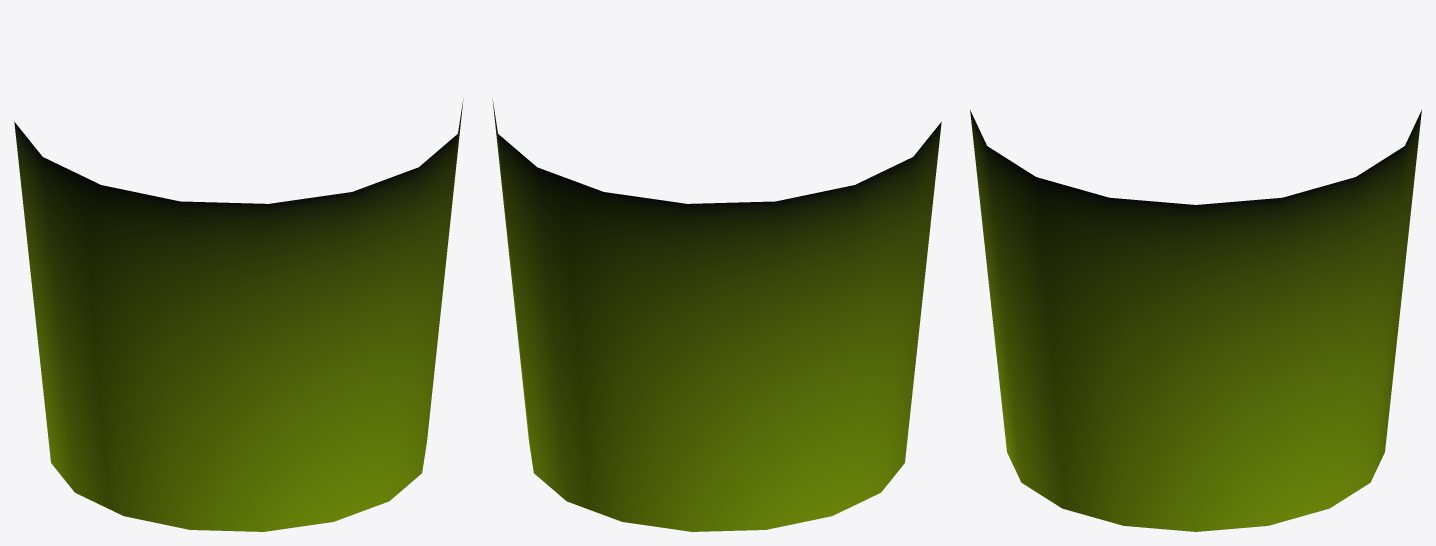
The model's file is circle_green2.glb.
The picture shows the model from 3 angles, left to right: view 1: azimuth 30°, elevation 25°; view 2: azimuth 150°, elevation 25°; view 3: azimuth 270°, elevation 25°; orthographic projection.
Visible parts, largest first — view 1: Cylinder; view 2: Cylinder; view 3: Cylinder.
Part boxes in pixels (bbox=[...]): Cylinder: bbox=[14, 100, 463, 531]; Cylinder: bbox=[492, 100, 941, 531]; Cylinder: bbox=[970, 110, 1421, 531].
Bounding box in the file's own units: 2.39 × 2 × 2.39.
